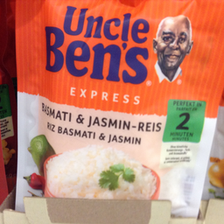rice: (16, 1, 224, 223)
